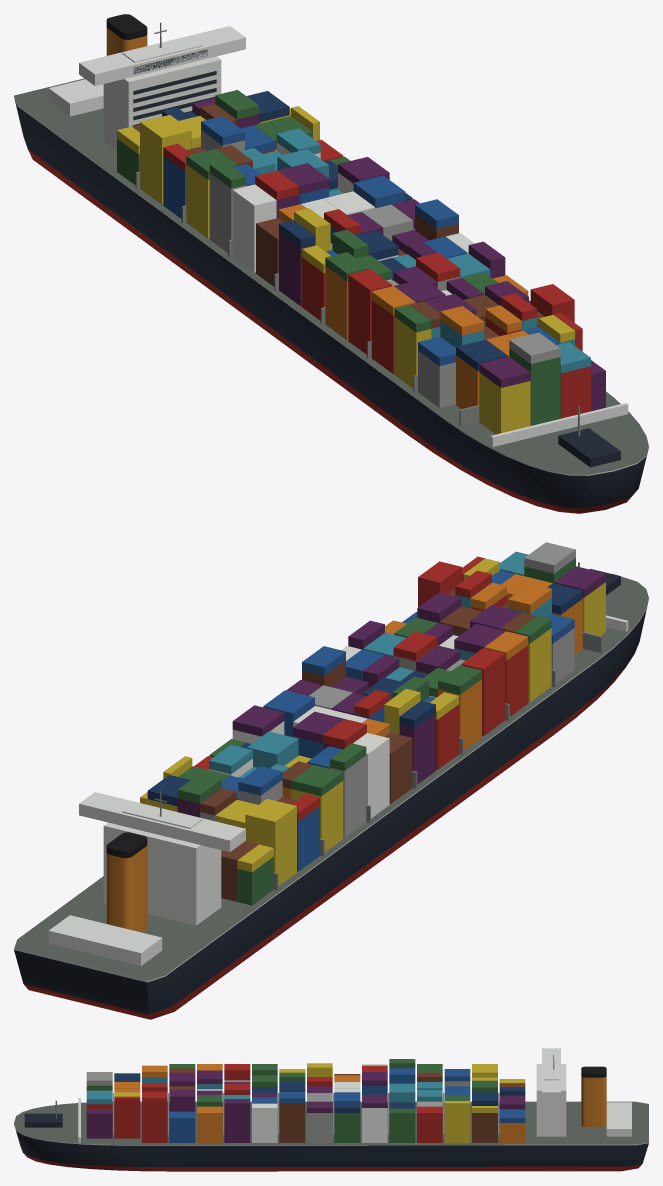
The model's file is seattle_container_ship.glb.
3 renders of one model, top to bottom at view 1: azimuth 30°, elevation 25°; view 2: azimuth 150°, elevation 25°; view 3: azimuth 270°, elevation 25°, orthographic. The views are drawn at different scales.
Parts seen in each view (by area): view 1: seattle_container_ship; view 2: seattle_container_ship; view 3: seattle_container_ship.
Boxes of the visible parts, x1,y1,x2,y2 form: seattle_container_ship: [14, 14, 648, 513]; seattle_container_ship: [14, 542, 648, 1019]; seattle_container_ship: [14, 1048, 648, 1171].
Bounding box in the file's own units: 49 × 49.99 × 300.
Materials: 1 (1 with a texture image).
